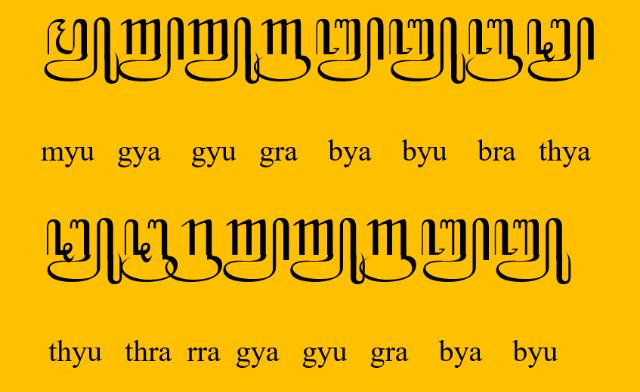br: (465, 18, 523, 82)
by: (314, 17, 384, 83), (421, 218, 491, 282)
byu: (388, 16, 466, 84), (493, 217, 571, 285)
gr: (253, 18, 310, 82), (360, 219, 416, 282)
gy: (118, 16, 184, 82), (223, 217, 289, 281)
gyu: (184, 17, 260, 85), (289, 217, 365, 285)
myu: (44, 16, 120, 84)
rr: (165, 220, 222, 284)
thr: (121, 219, 177, 283)
thy: (526, 17, 596, 83)
thyu: (46, 219, 122, 286)
